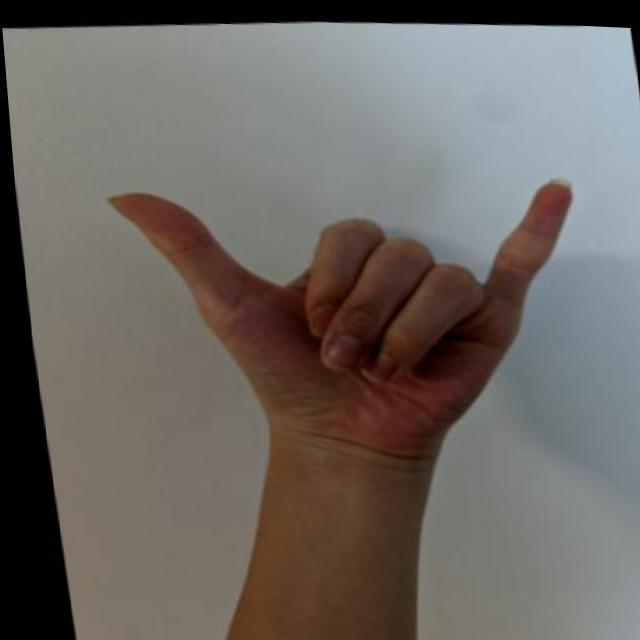Y: (93, 151, 611, 475)
